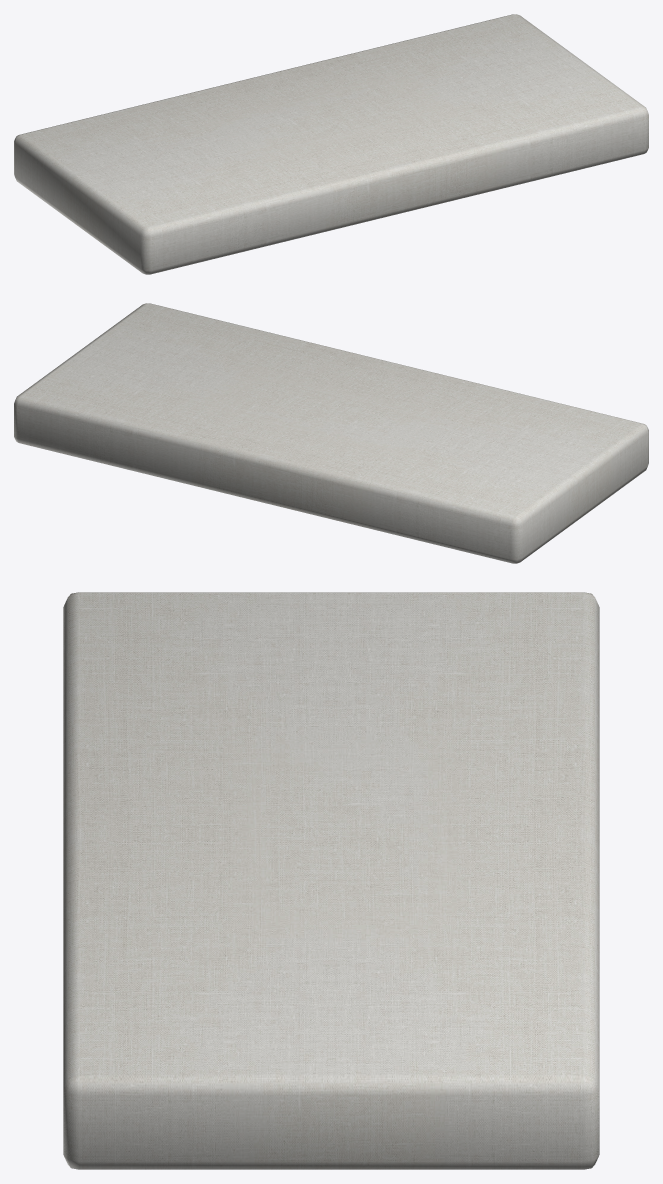
Rendered from Mattress.FBX.
The picture shows the model from 3 angles, top to bottom: view 1: azimuth 30°, elevation 25°; view 2: azimuth 150°, elevation 25°; view 3: azimuth 270°, elevation 25°; orthographic projection. The views are drawn at different scales.
Parts seen in each view (by area): view 1: mattress; view 2: mattress; view 3: mattress.
Boxes of the visible parts, x1,y1,x2,y2 form: mattress: [14, 14, 648, 274]; mattress: [14, 303, 648, 563]; mattress: [63, 592, 599, 1169].
Bounding box in the file's own units: 182 × 16.29 × 83.48.
1 material, 1 textured.
